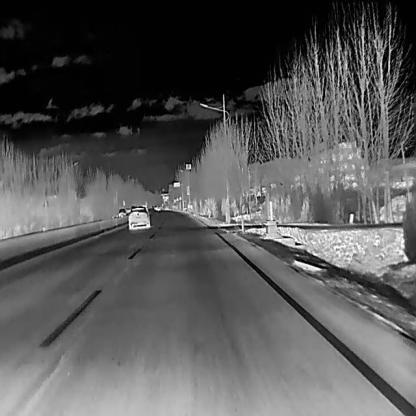car: (128, 205, 151, 229), (117, 207, 126, 217)
